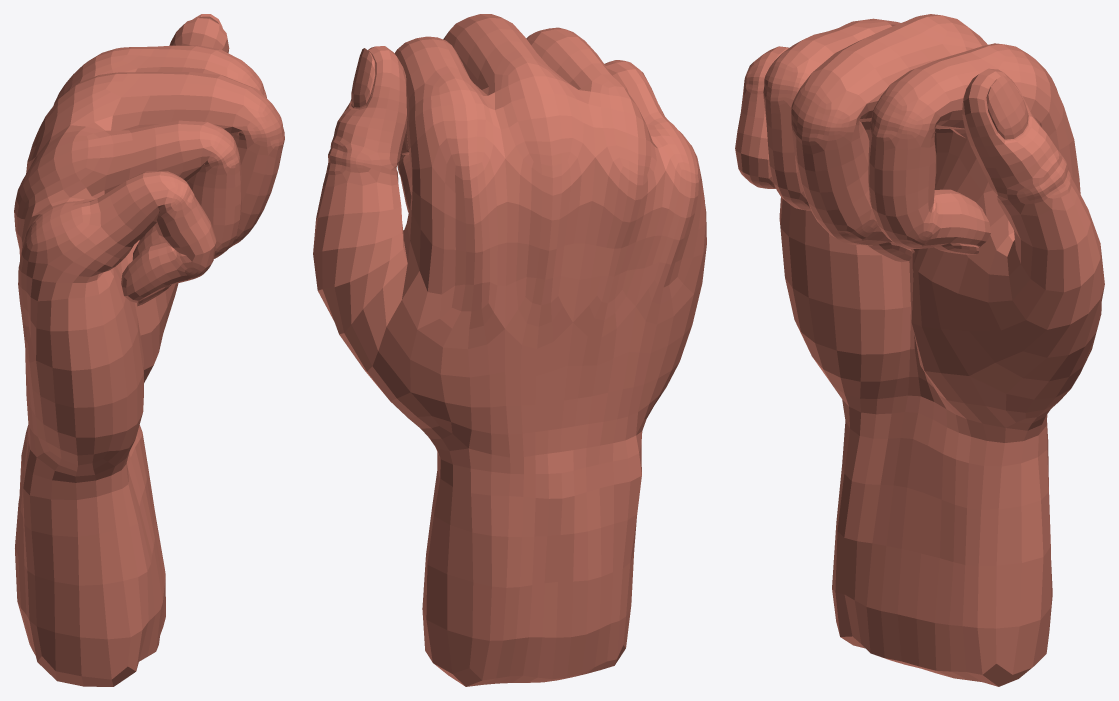
File: alif.glb
3 renders of one model, left to right at view 1: azimuth 30°, elevation 25°; view 2: azimuth 150°, elevation 25°; view 3: azimuth 270°, elevation 25°, orthographic. The views are drawn at different scales.
Parts seen in each view (by area): view 1: ZBrushPolyMesh3D; view 2: ZBrushPolyMesh3D; view 3: ZBrushPolyMesh3D.
Boxes of the visible parts, x1,y1,x2,y2 form: ZBrushPolyMesh3D: (14, 14, 284, 686); ZBrushPolyMesh3D: (313, 14, 706, 686); ZBrushPolyMesh3D: (735, 14, 1104, 686).
Size of the model in its own units: 1.84 by 3.85 by 1.96.
